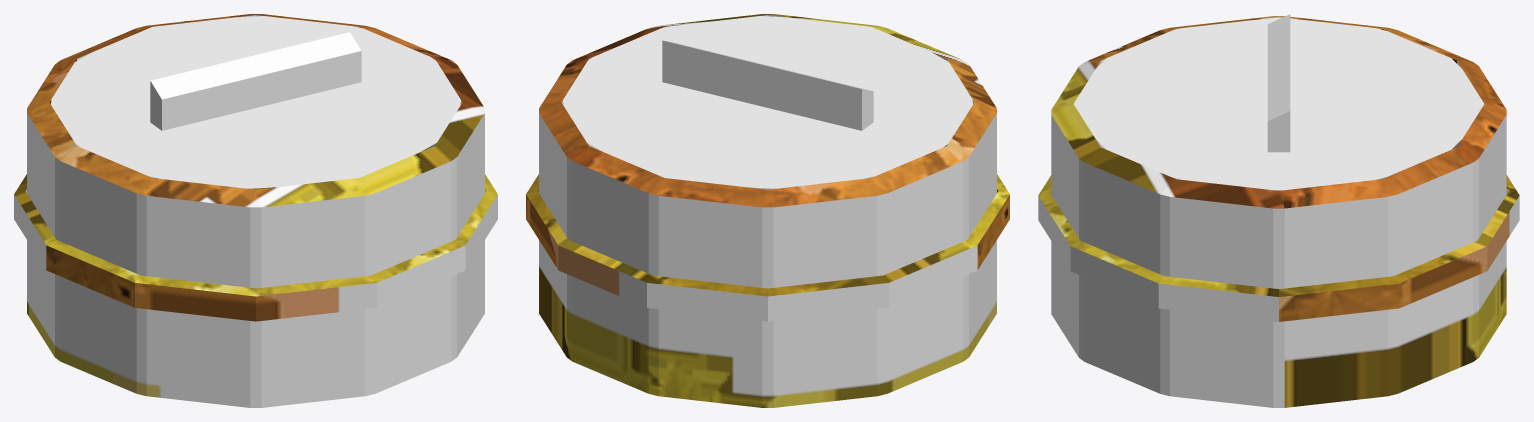
The model's file is wooden_basin.fbx.
The picture shows the model from 3 angles, left to right: view 1: azimuth 30°, elevation 25°; view 2: azimuth 150°, elevation 25°; view 3: azimuth 270°, elevation 25°; orthographic projection.
Visible parts, largest first — view 1: wooden_basin; view 2: wooden_basin; view 3: wooden_basin.
Part boxes in pixels (left/top/right/bottom): wooden_basin: left=14, top=14, right=497, bottom=407; wooden_basin: left=526, top=14, right=1009, bottom=407; wooden_basin: left=1038, top=14, right=1519, bottom=407.
Size of the model in its own units: 67.2 by 38.4 by 67.2.
